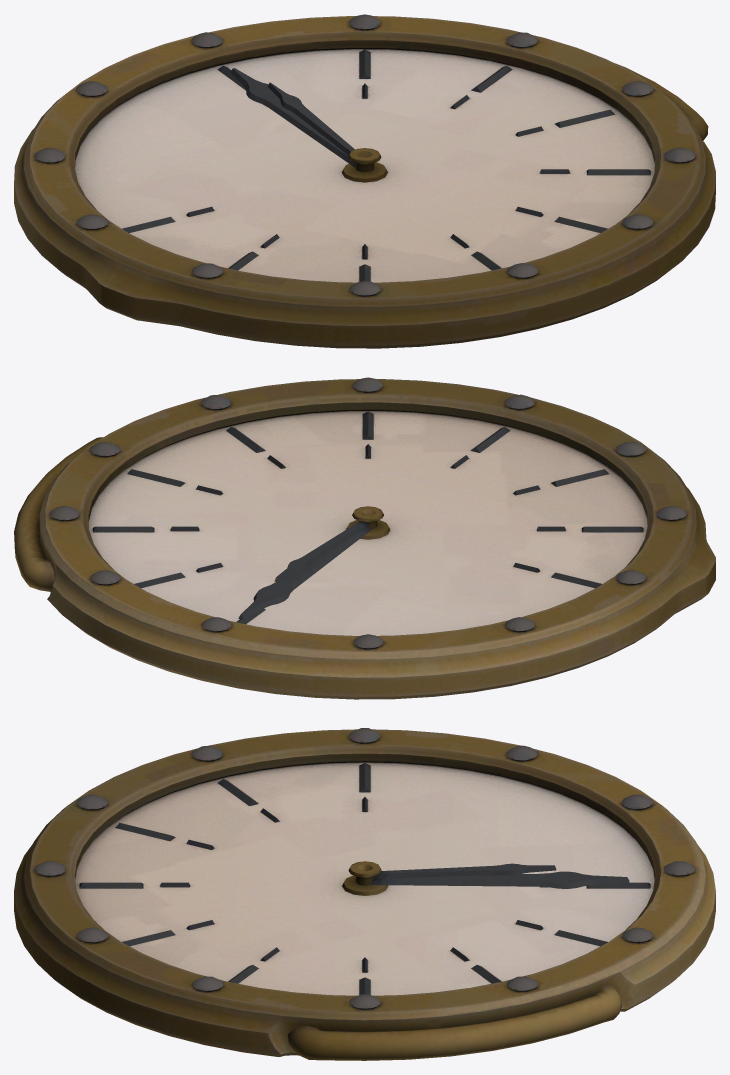
Rendered from flag_room_meter.glb.
The picture shows the model from 3 angles, top to bottom: view 1: azimuth 30°, elevation 25°; view 2: azimuth 150°, elevation 25°; view 3: azimuth 270°, elevation 25°; orthographic projection. The views are drawn at different scales.
Parts seen in each view (by area): view 1: flag_room_meter; view 2: flag_room_meter; view 3: flag_room_meter.
Part boxes in pixels (x1,y1,x2,y2): flag_room_meter: (14,14,715,348); flag_room_meter: (14,377,715,699); flag_room_meter: (14,728,715,1060).
Bounding box in the file's own units: 2.83 × 0.2271 × 2.75.
2 materials, 2 textured.
